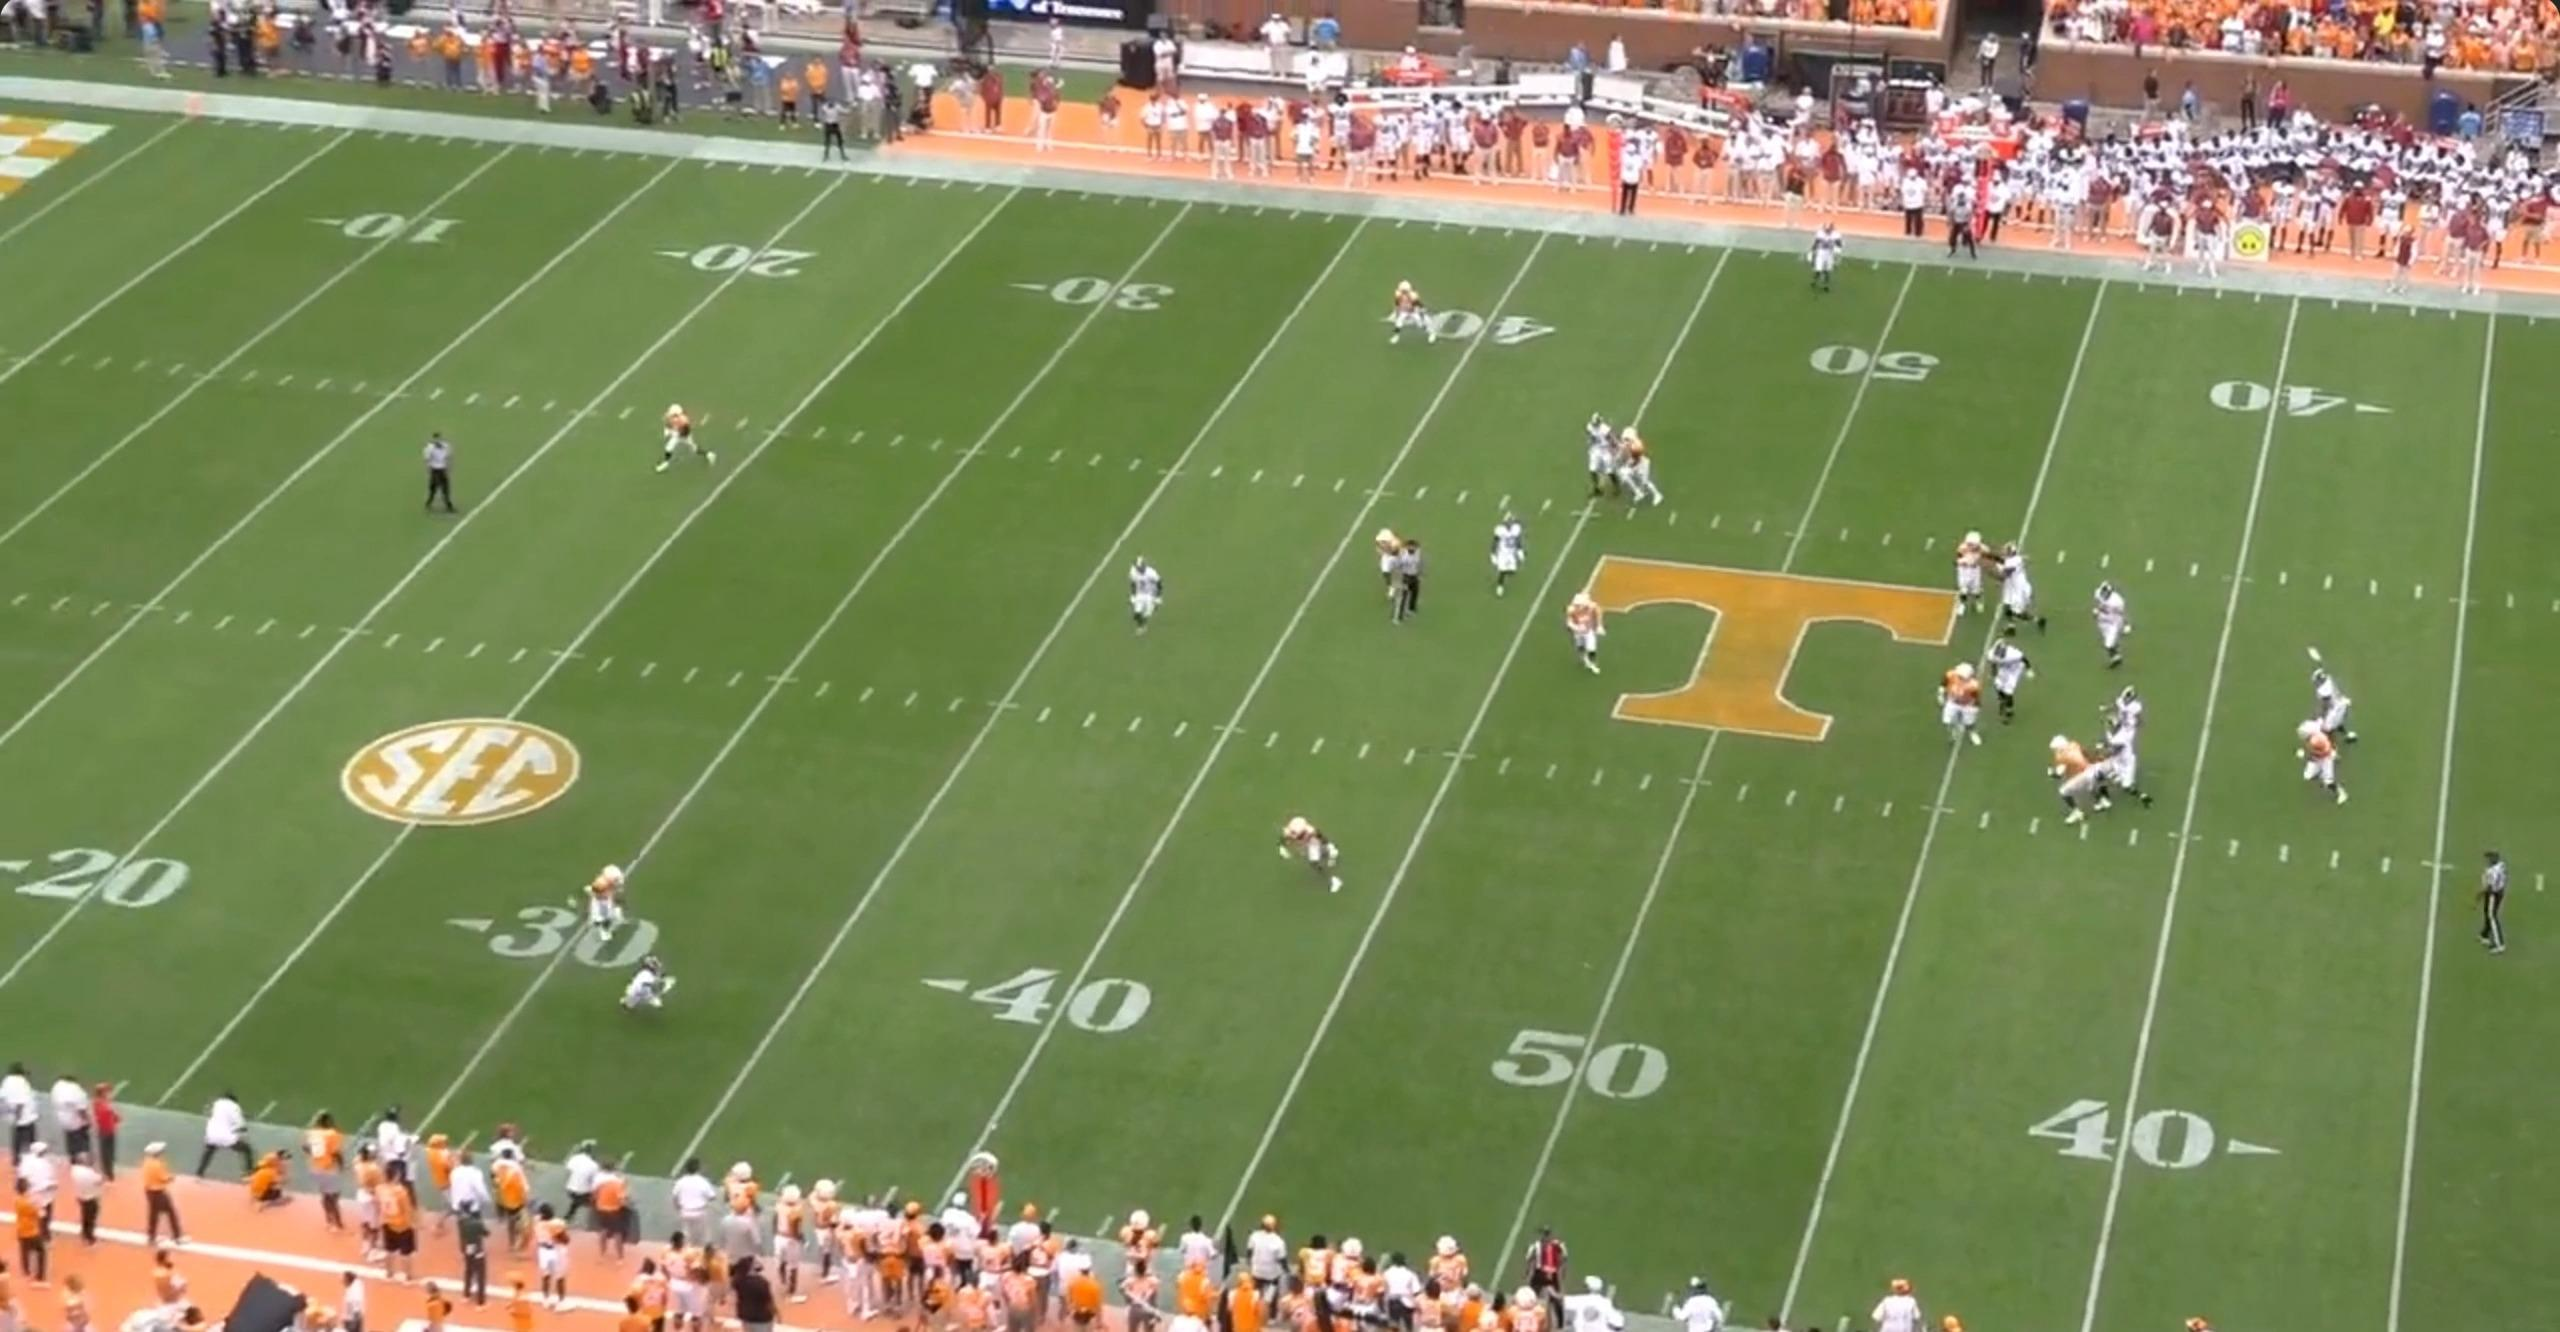player: (2038, 735, 2108, 828), (2095, 724, 2161, 814), (575, 861, 639, 952), (1602, 426, 1670, 511), (1278, 812, 1346, 896), (1998, 542, 2056, 639), (617, 958, 688, 1036), (2285, 715, 2343, 808), (659, 399, 724, 476), (1977, 636, 2030, 727), (2091, 579, 2139, 676), (1561, 589, 1610, 682), (2307, 667, 2361, 748), (1576, 412, 1624, 503), (2094, 688, 2146, 767), (1937, 667, 1984, 753), (1953, 533, 1997, 624), (1125, 553, 1171, 640), (1487, 511, 1529, 602), (1383, 280, 1437, 350), (1804, 217, 1845, 300), (1375, 525, 1403, 599)
ref: (2470, 846, 2515, 959), (1934, 183, 1985, 267), (415, 430, 456, 520), (1392, 537, 1428, 630), (813, 95, 851, 169)
